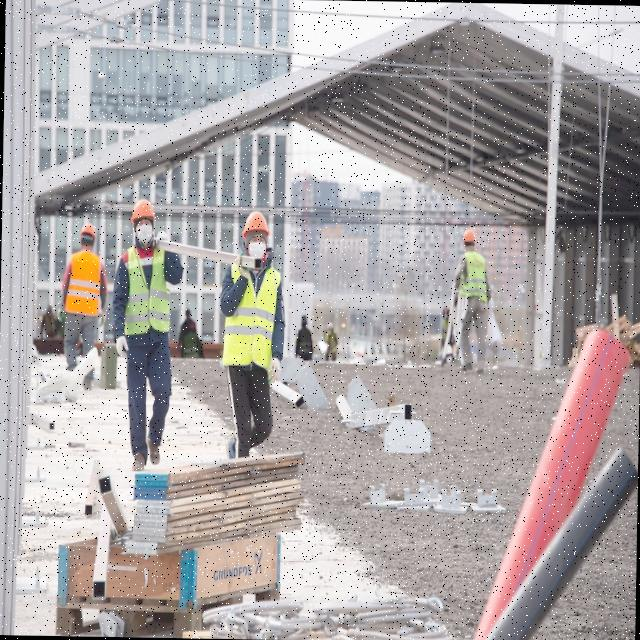Helmet: (243, 210, 271, 243), (131, 200, 157, 227), (79, 223, 98, 241), (462, 228, 478, 245)
Jacket: (225, 248, 279, 368), (121, 232, 171, 339), (68, 246, 109, 316), (463, 251, 489, 305)
